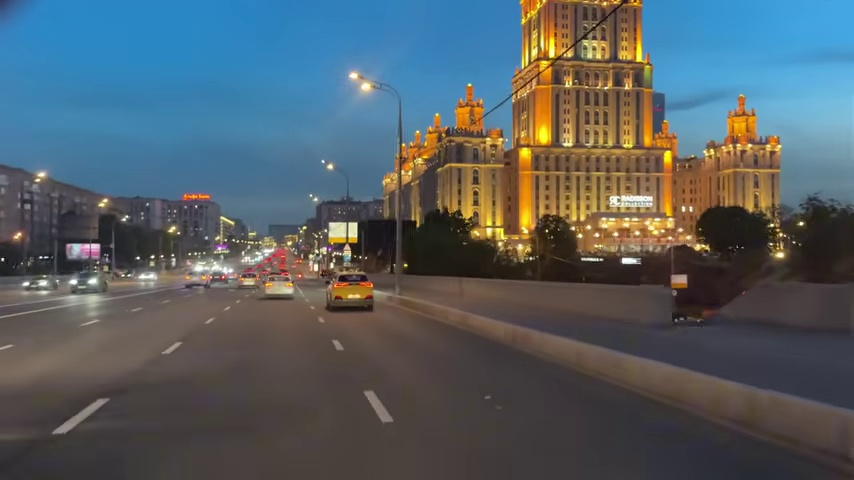acesa: (353, 76, 375, 94), (33, 169, 48, 185), (10, 230, 25, 244), (322, 159, 336, 174), (96, 197, 110, 211)
